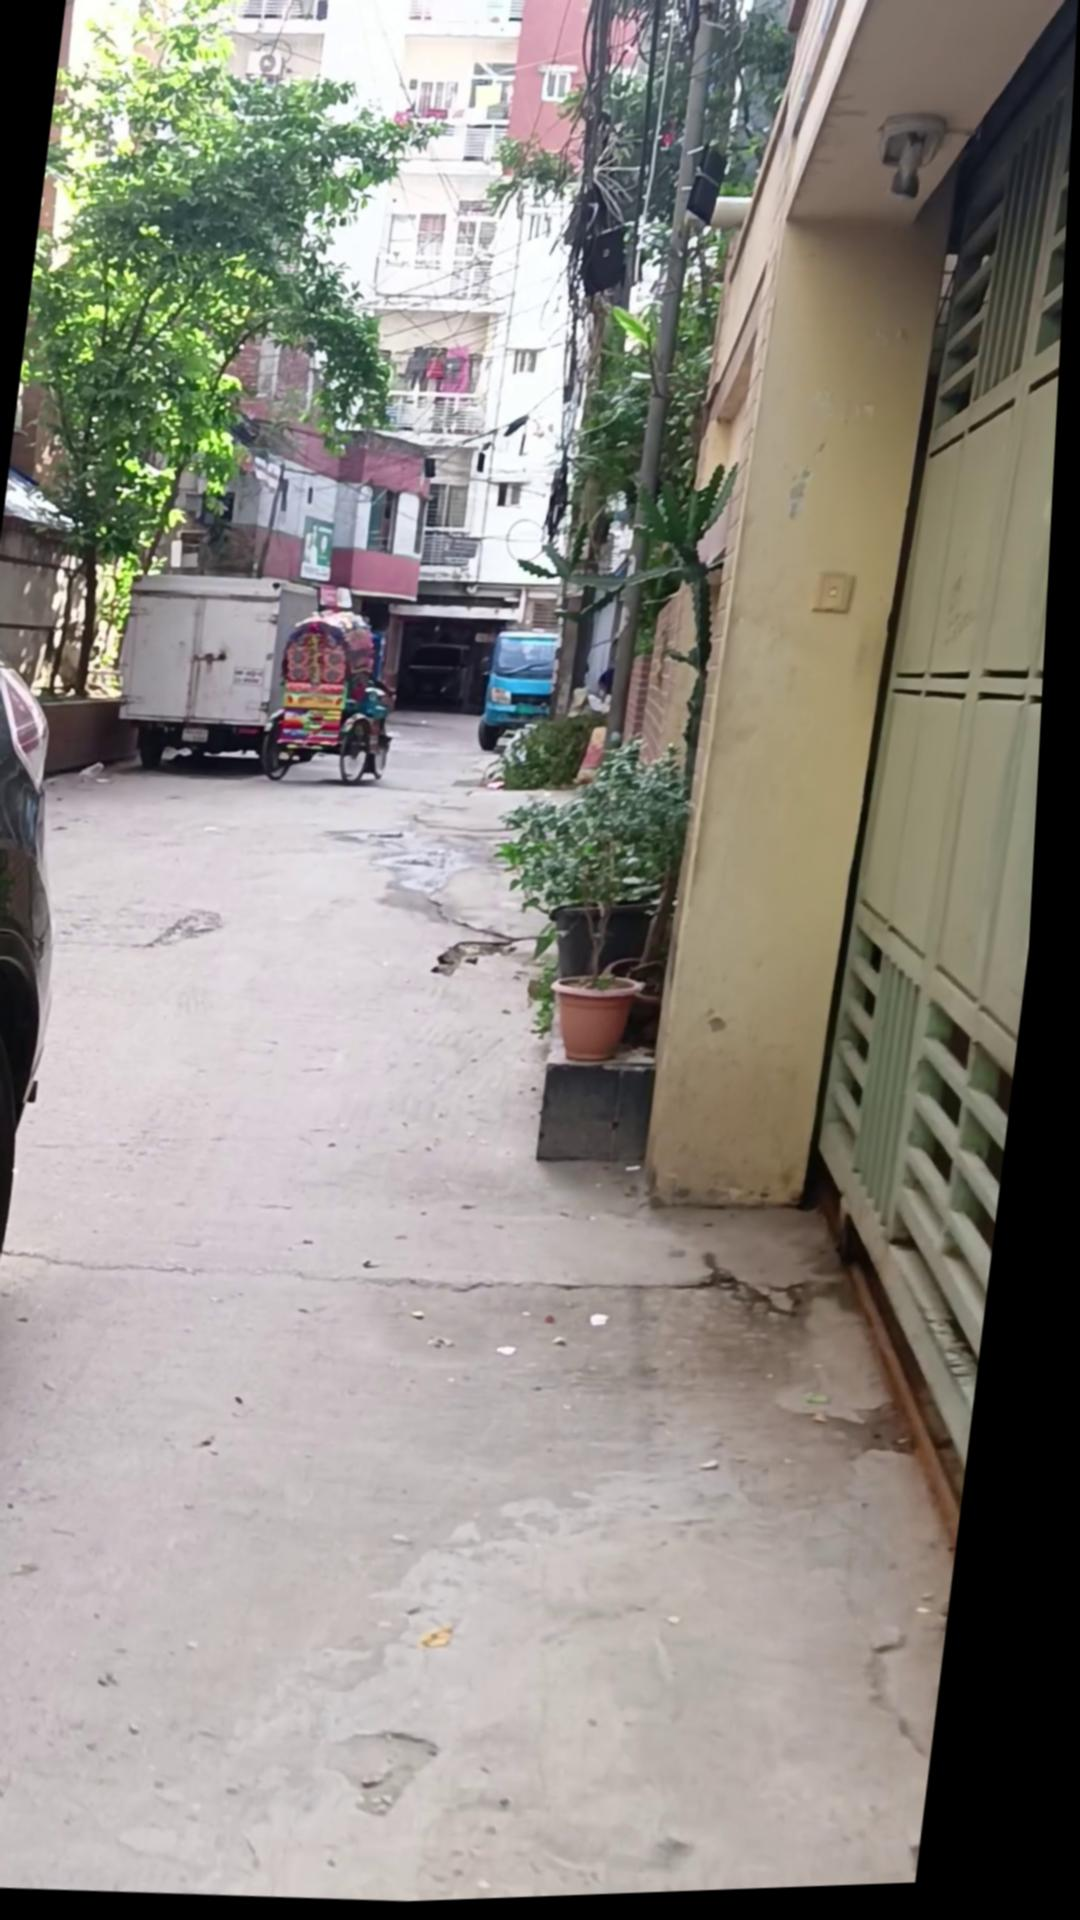Broken-road: (0, 663, 1052, 1920)
Car: (0, 629, 103, 1440)
Crosswalk: (535, 971, 706, 1186)
Obstacle: (605, 0, 726, 759)
Pothole: (264, 608, 416, 793)
Traffic-cone: (0, 0, 433, 721)
Traffic-sign: (112, 564, 346, 782), (482, 630, 569, 761)
